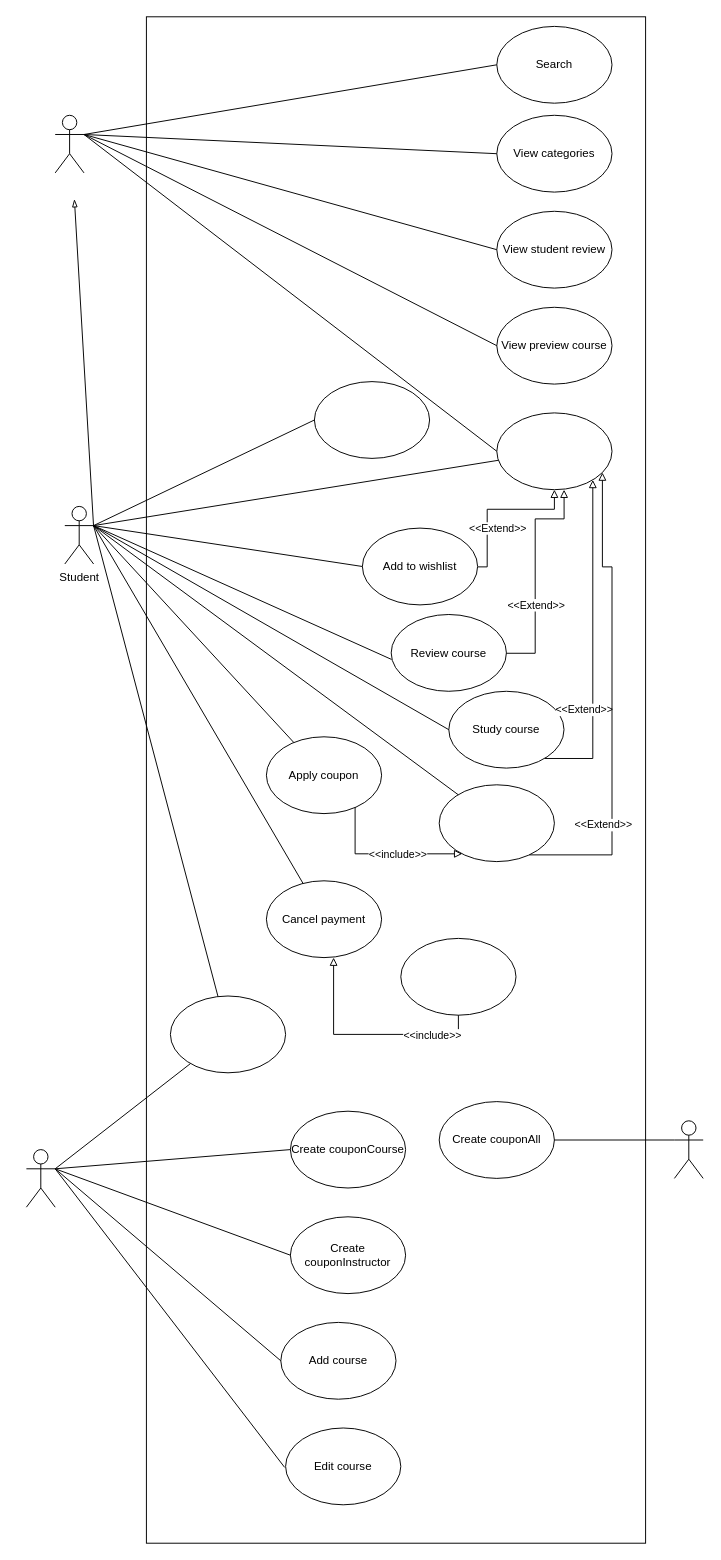
Image size: 721x1560. Some labels were removed from this diagram. The shapes that lost their labels are listed below. From the top down, each one's centre as x and y in pixels, then its label:
(69,143): Guest
(371,419): Add to cart
(554,451): View course
(496,823): Make payment
(458,976): Return payment
(227,1034): Edit profile
(688,1149): Admin
(40,1178): Instructor
